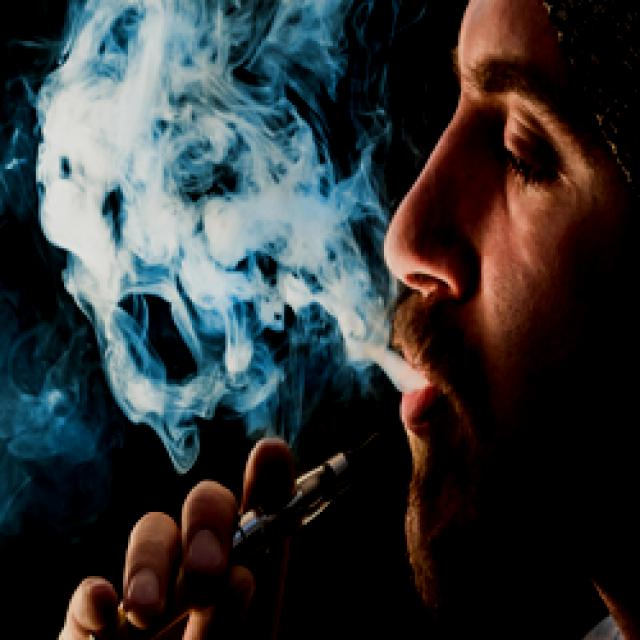Smooking: (198, 400, 391, 545)
